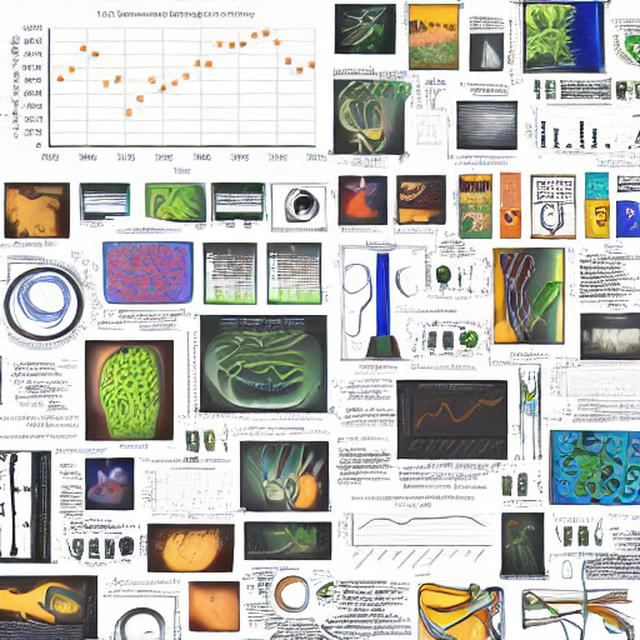Graph: (6, 3, 326, 180), (332, 491, 494, 579), (401, 382, 508, 460), (145, 466, 237, 522), (522, 102, 615, 157), (560, 369, 613, 400)
